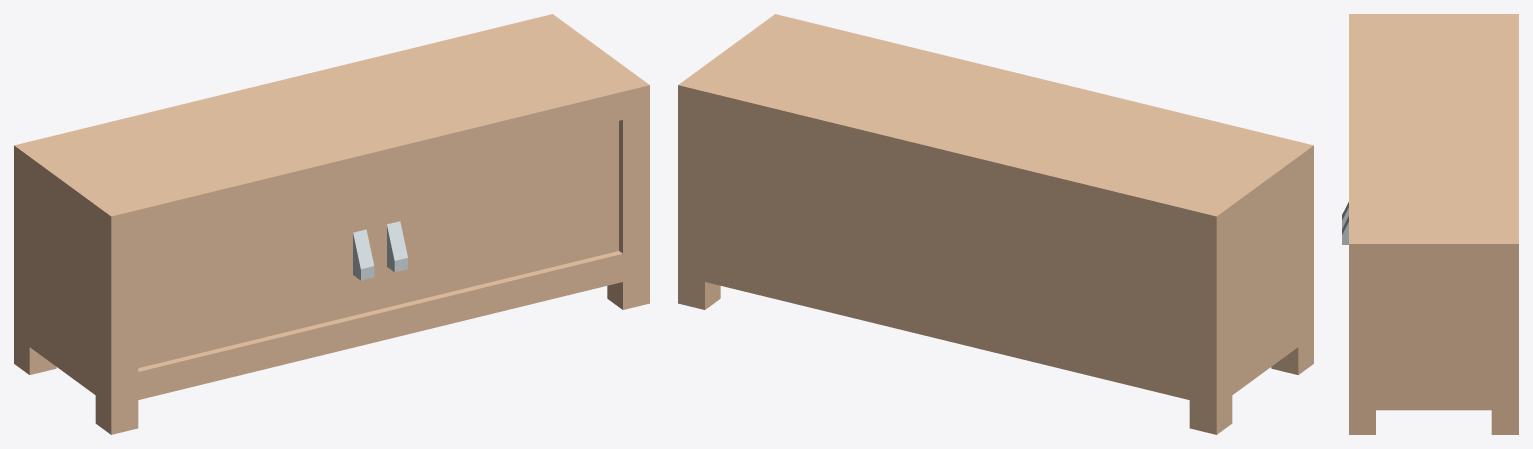
The model's file is cabinetTelevisionDoors.glb.
The picture shows the model from 3 angles, left to right: view 1: azimuth 30°, elevation 25°; view 2: azimuth 150°, elevation 25°; view 3: azimuth 270°, elevation 25°; orthographic projection. The views are drawn at different scales.
Parts seen in each view (by area): view 1: cabinetTelevisionDoors(Clone), doorRight, doorLeft; view 2: cabinetTelevisionDoors(Clone); view 3: cabinetTelevisionDoors(Clone).
Boxes of the visible parts, x1,y1,x2,y2 form: cabinetTelevisionDoors(Clone): (14,14,649,434); doorRight: (376,121,618,309); doorLeft: (138,180,376,367); cabinetTelevisionDoors(Clone): (678,14,1313,434); cabinetTelevisionDoors(Clone): (1349,14,1518,434).
Size of the model in its own units: 1.18 by 0.4556 by 0.3822.
